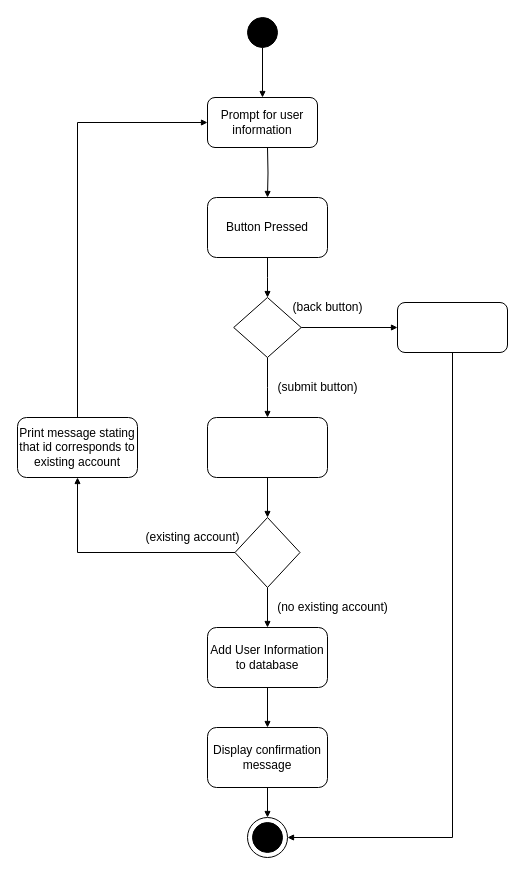
The diagram is 525 pixels wide and 875 high, and some of its shapes have lost their labels. Here are the shapes that lost their labels. From the top down, the centre of each, then its label:
At (452,327): "Display Student Functionality menu".
At (267,447): "Check if entered Student Id corresponds to existing account".
